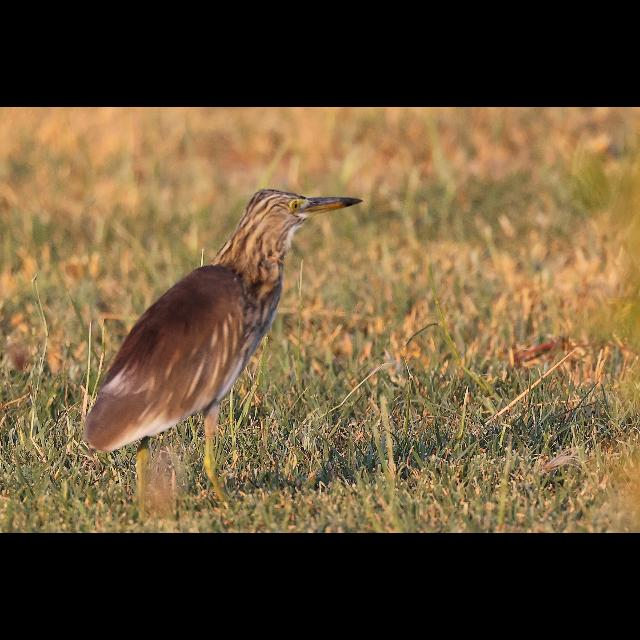heron: (75, 178, 371, 488)
